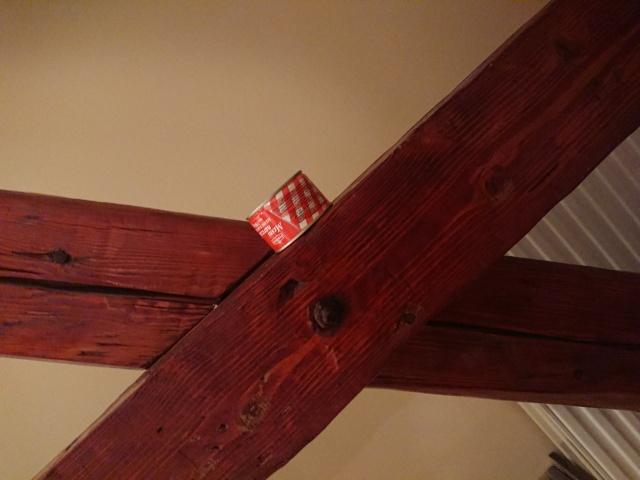Podravka Luncheon Meat 150g: (243, 168, 337, 259)
